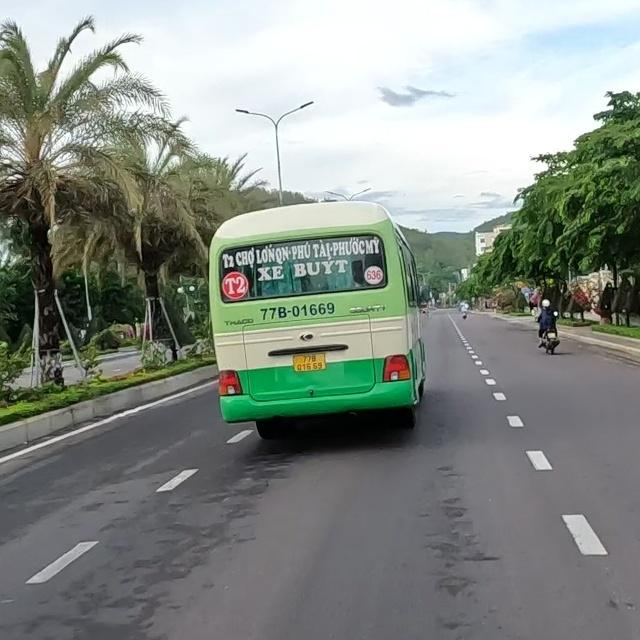license-plate: (293, 353, 327, 373)
